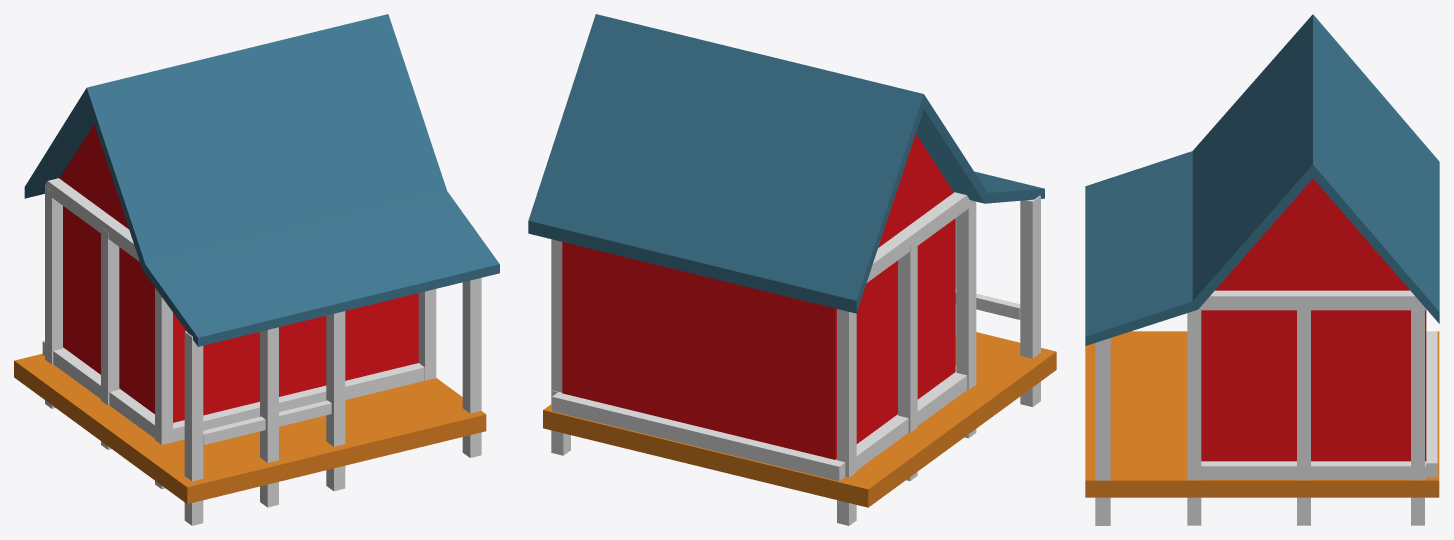
Rendered from House_13.FBX.
The picture shows the model from 3 angles, left to right: view 1: azimuth 30°, elevation 25°; view 2: azimuth 150°, elevation 25°; view 3: azimuth 270°, elevation 25°; orthographic projection. The views are drawn at different scales.
Visible parts, largest first — view 1: House_13; view 2: House_13; view 3: House_13.
Part boxes in pixels (x1,y1,x2,y2): House_13: (14,14,499,525); House_13: (528,14,1056,525); House_13: (1085,14,1439,525).
Bounding box in the file's own units: 5.17 × 5.7 × 4.98.
1 material, 1 textured.
